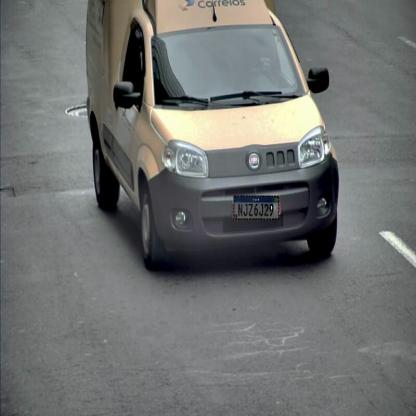PlacaM: (233, 195, 280, 220)
